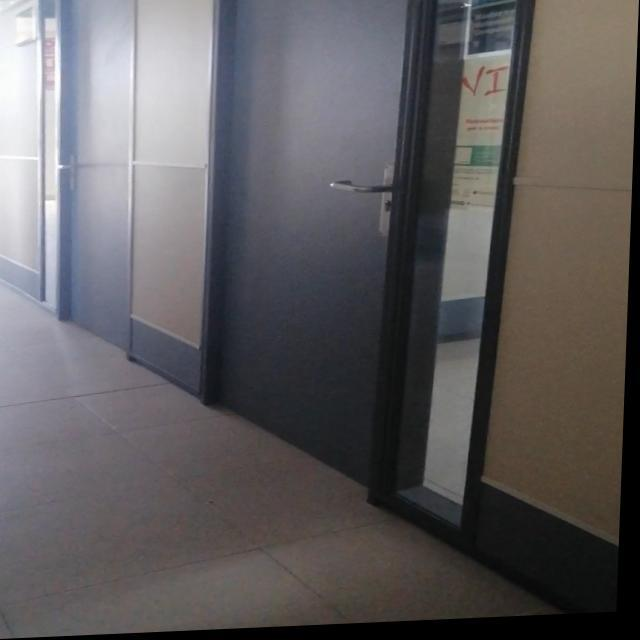door_handle: (324, 181, 394, 201)
